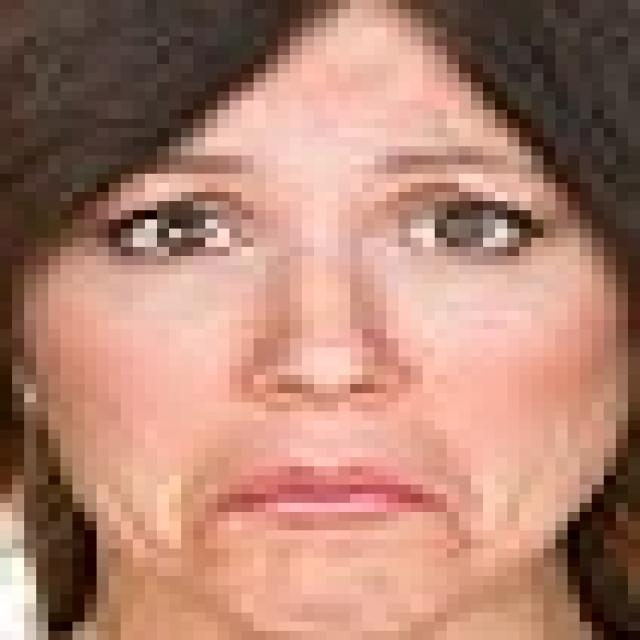Anxiety: (29, 0, 626, 631)
